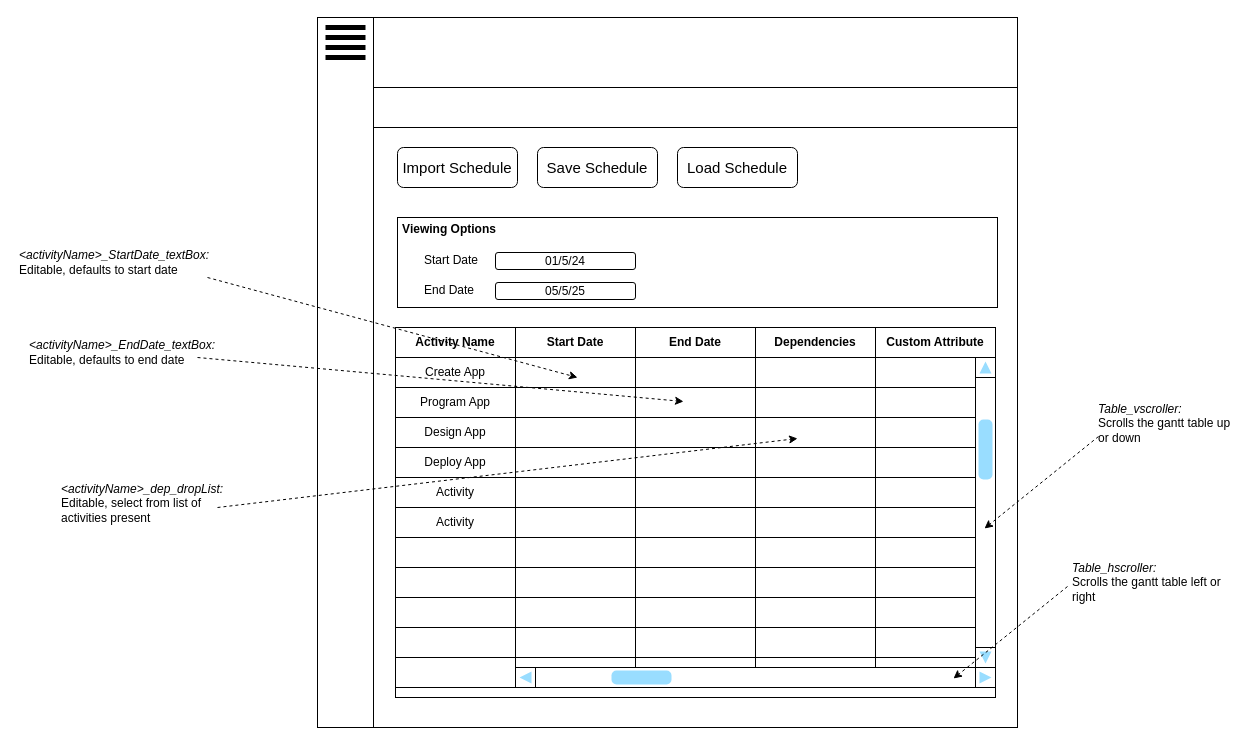
Some shapes in this 1254 by 745 pixel diagram are drawn without their labels. Here are the shapes that lost their labels. From the top down, the centre of each, then its label:
point 695,52: Schedule Optimizer
point 695,107: Schedule Table
